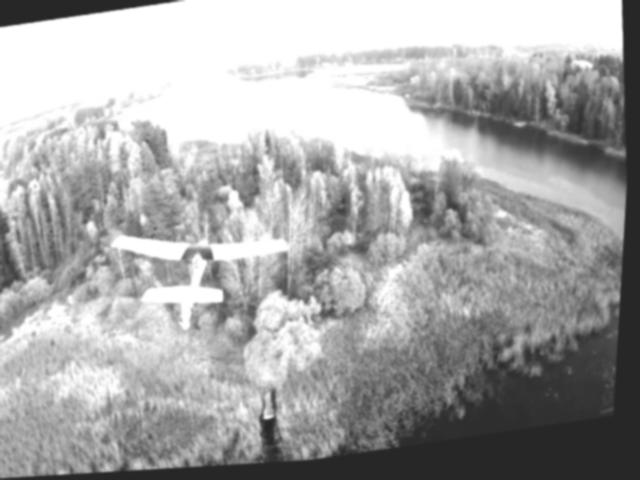hedef: (112, 207, 303, 336)
